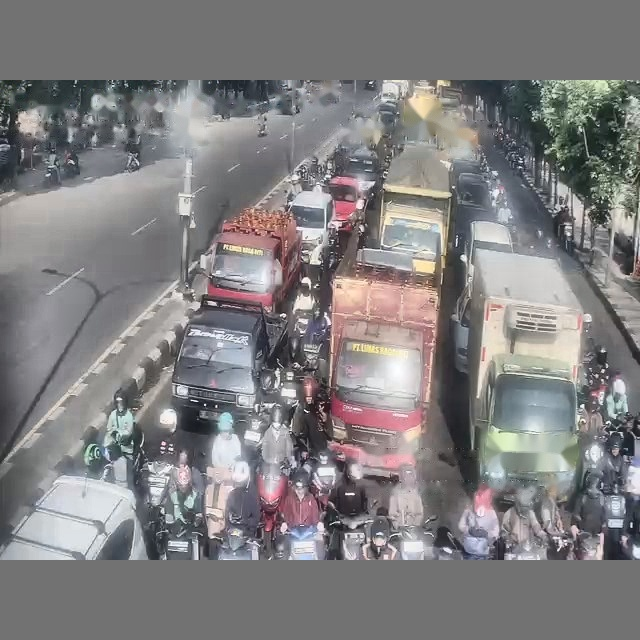Mobil: (0, 476, 147, 559), (460, 220, 512, 282), (451, 285, 470, 374), (365, 80, 376, 90)
Motor: (256, 462, 288, 555), (391, 516, 455, 560), (329, 513, 372, 559), (274, 526, 324, 559), (216, 527, 260, 559), (44, 160, 60, 186), (125, 152, 141, 173)
Truk: (467, 250, 582, 499), (329, 234, 438, 476), (200, 208, 301, 311), (379, 144, 451, 281)
